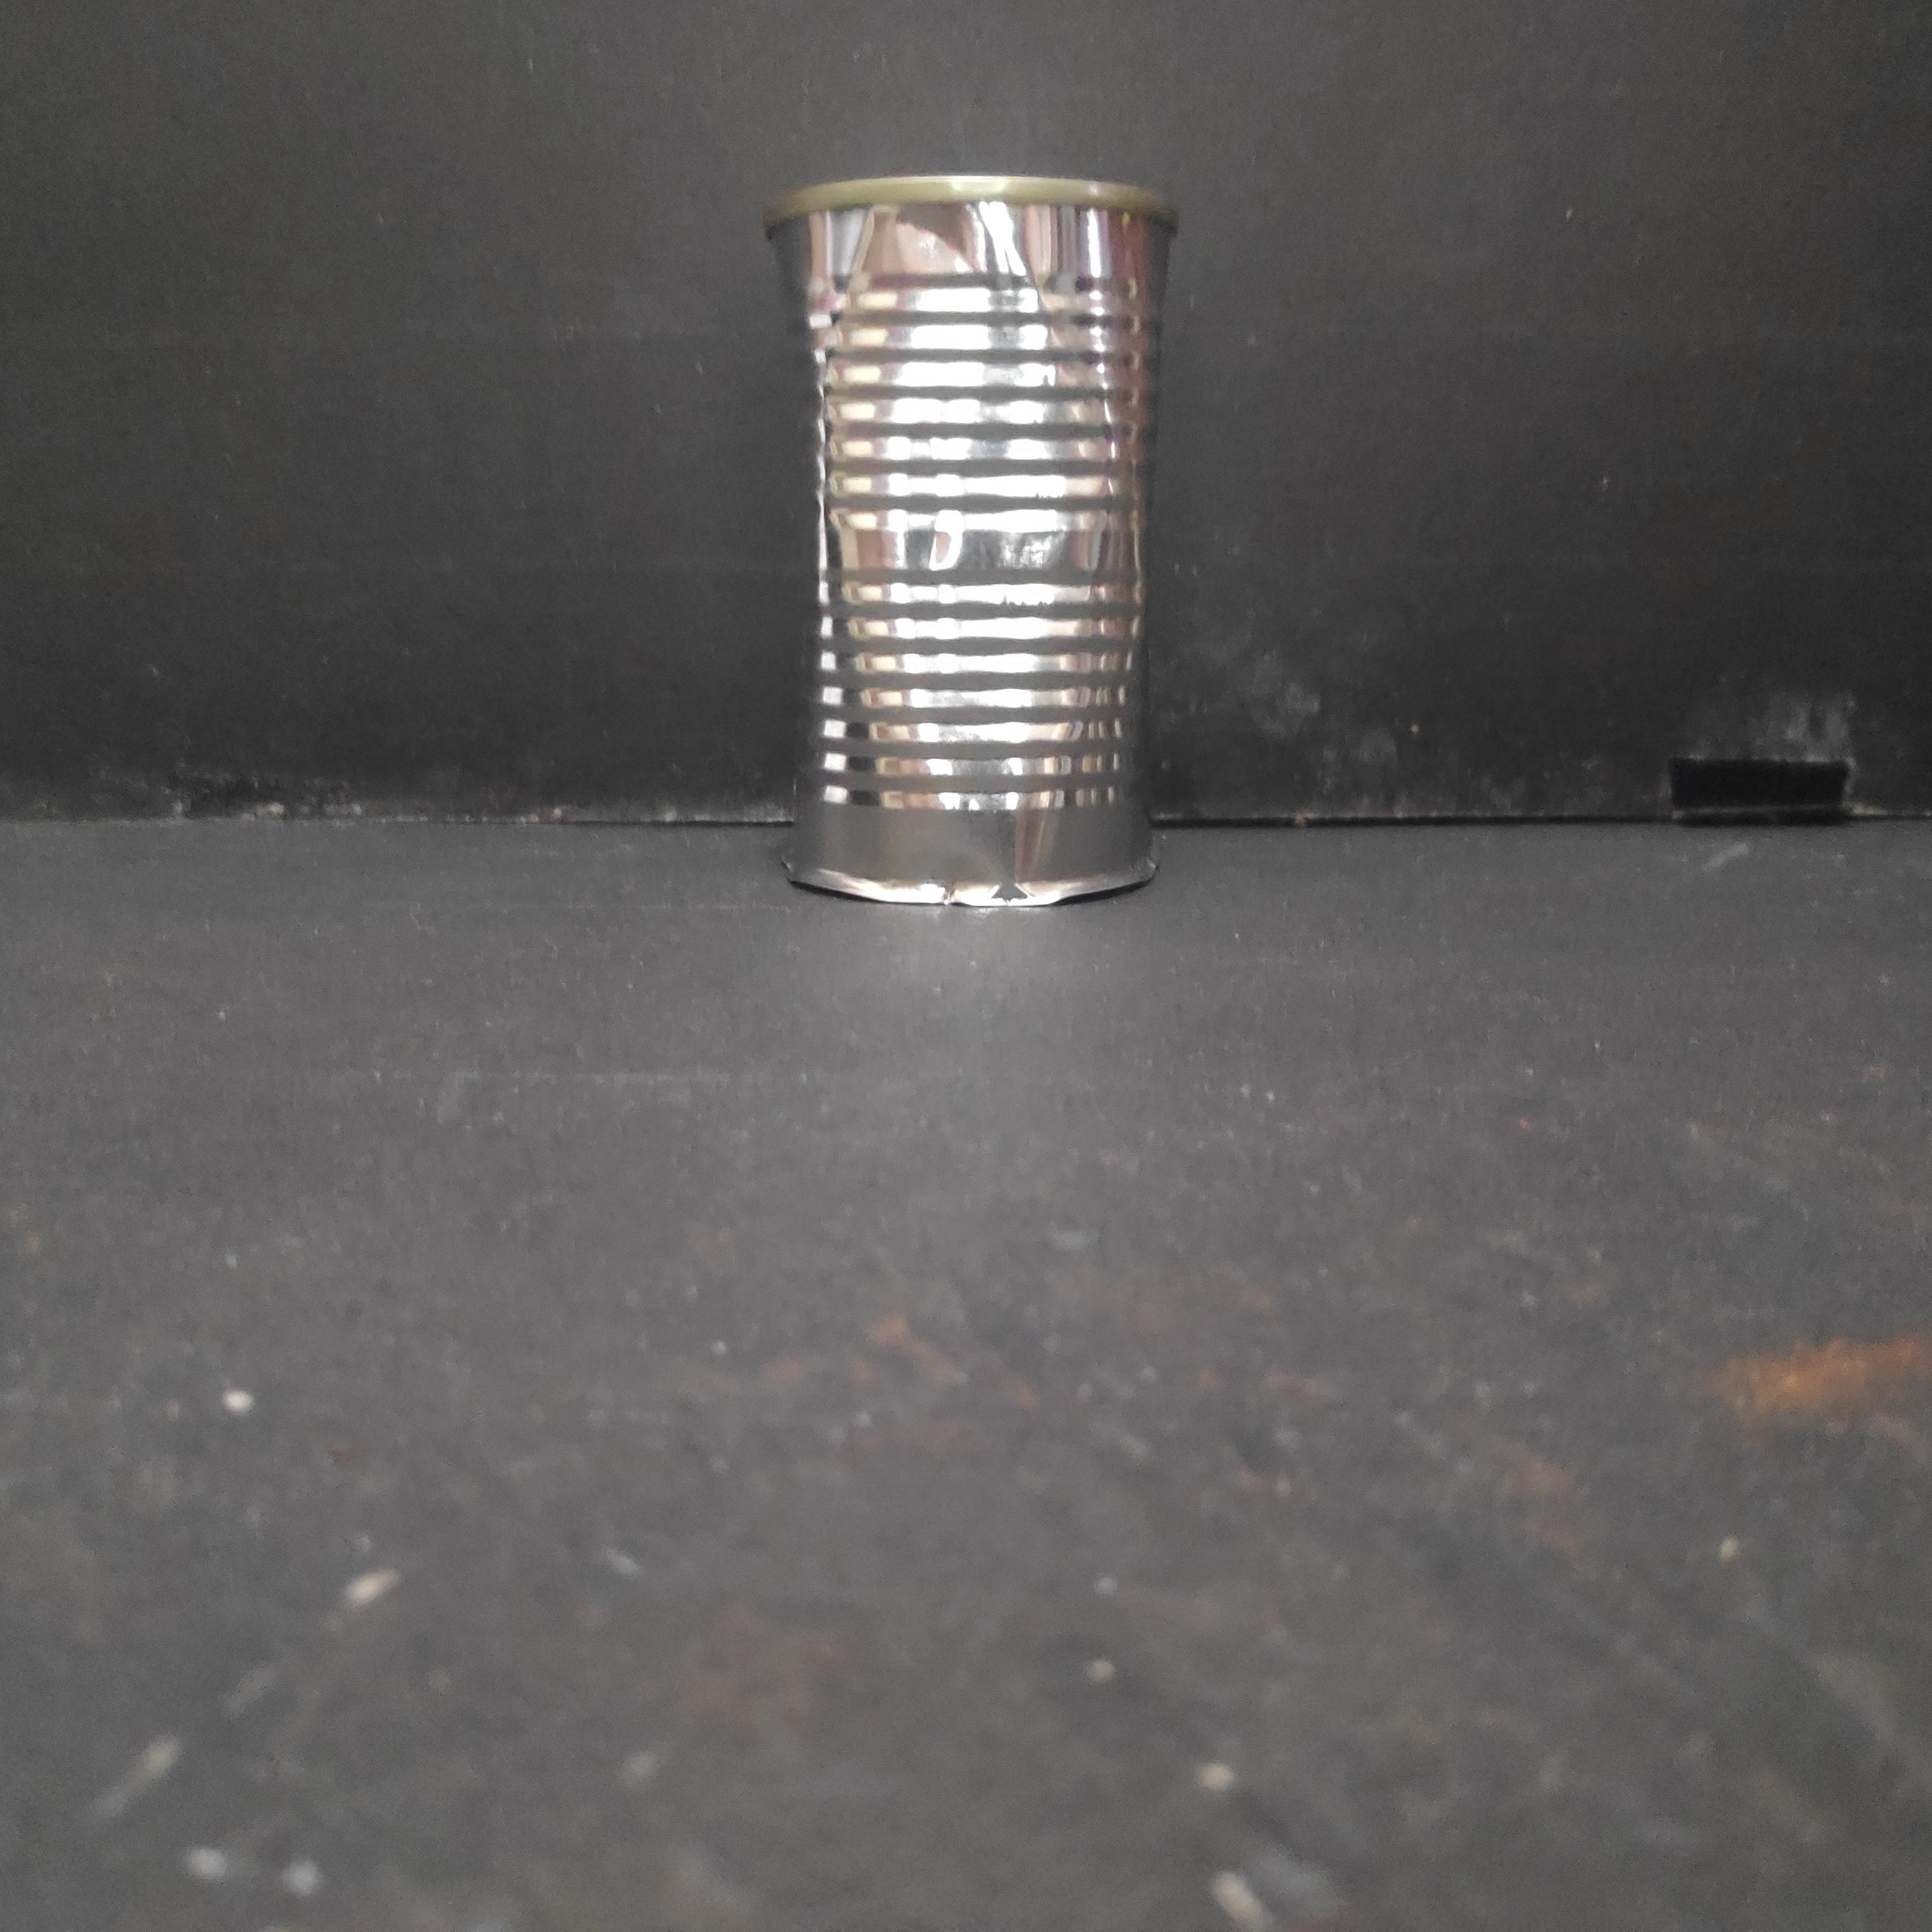Minor Defect: (755, 170, 1196, 911)
